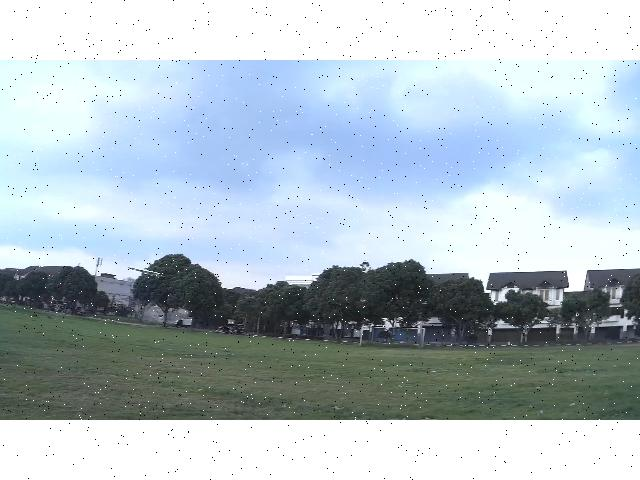Anti-Drone: (127, 266, 165, 278)
